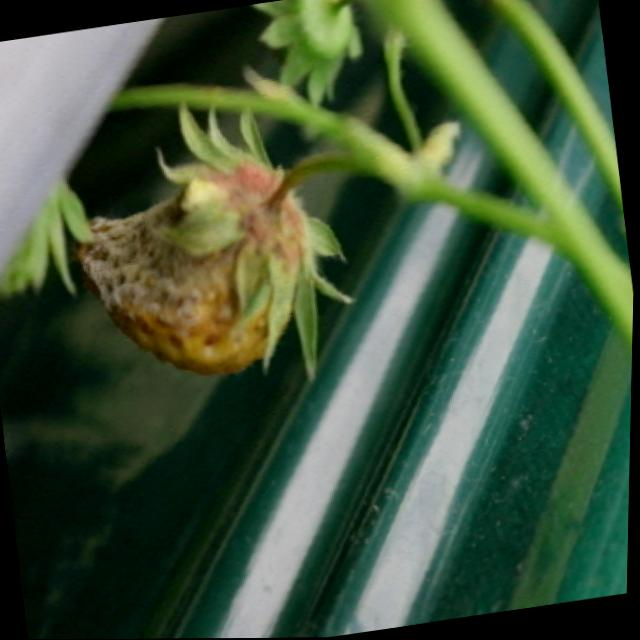Gray Mold: (70, 101, 358, 382)
